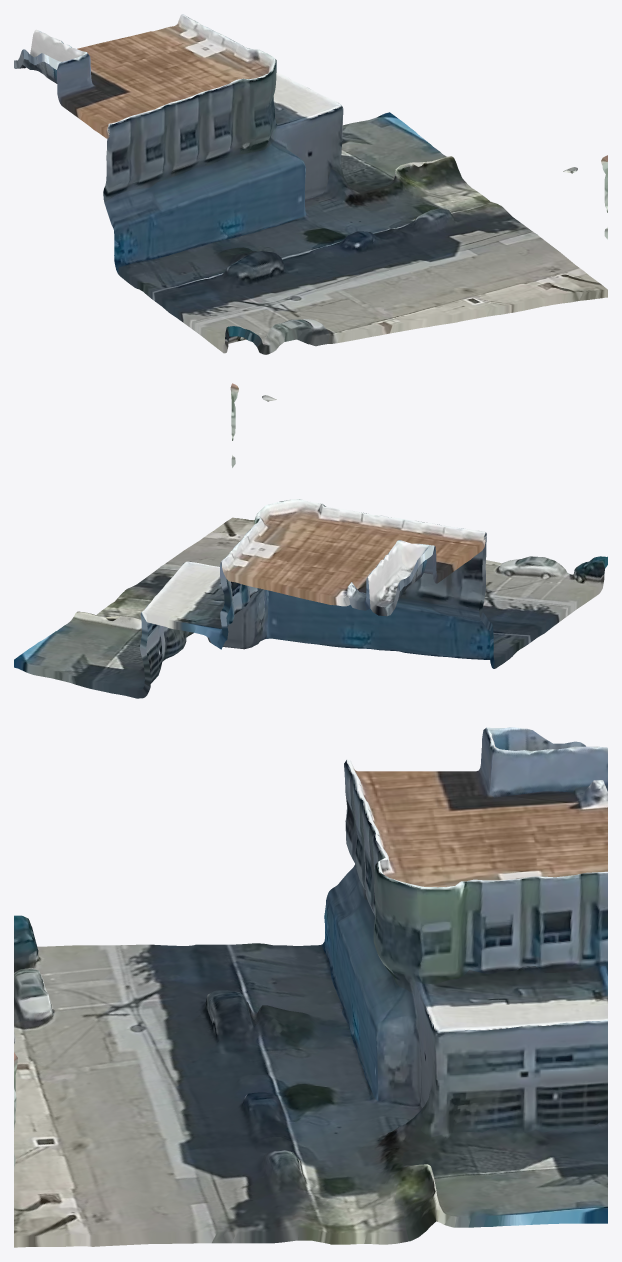
File: z20-167724-405196-h0-yup-uvflip-v3-world.glb
3 renders of one model, top to bottom at view 1: azimuth 30°, elevation 25°; view 2: azimuth 150°, elevation 25°; view 3: azimuth 270°, elevation 25°, orthographic. The views are drawn at different scales.
Bounding box in the file's own units: 30.16 × 15.24 × 30.32.
1 material, 1 textured.
